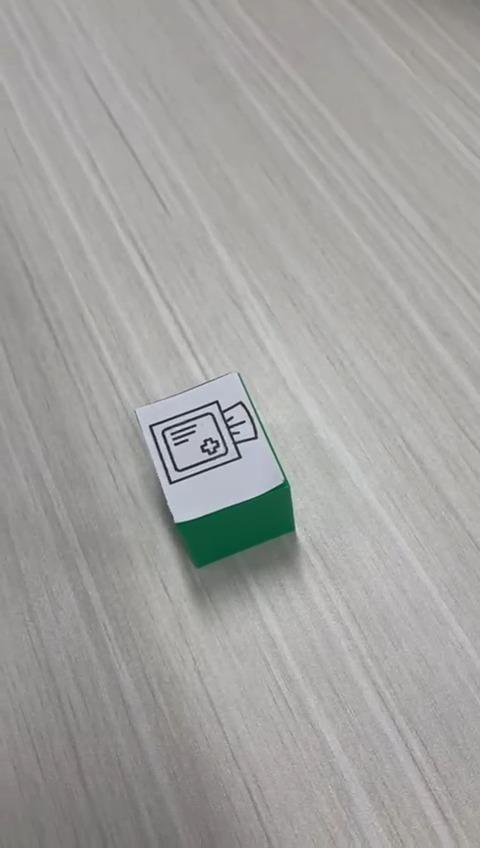Gauze: (133, 370, 297, 568)
